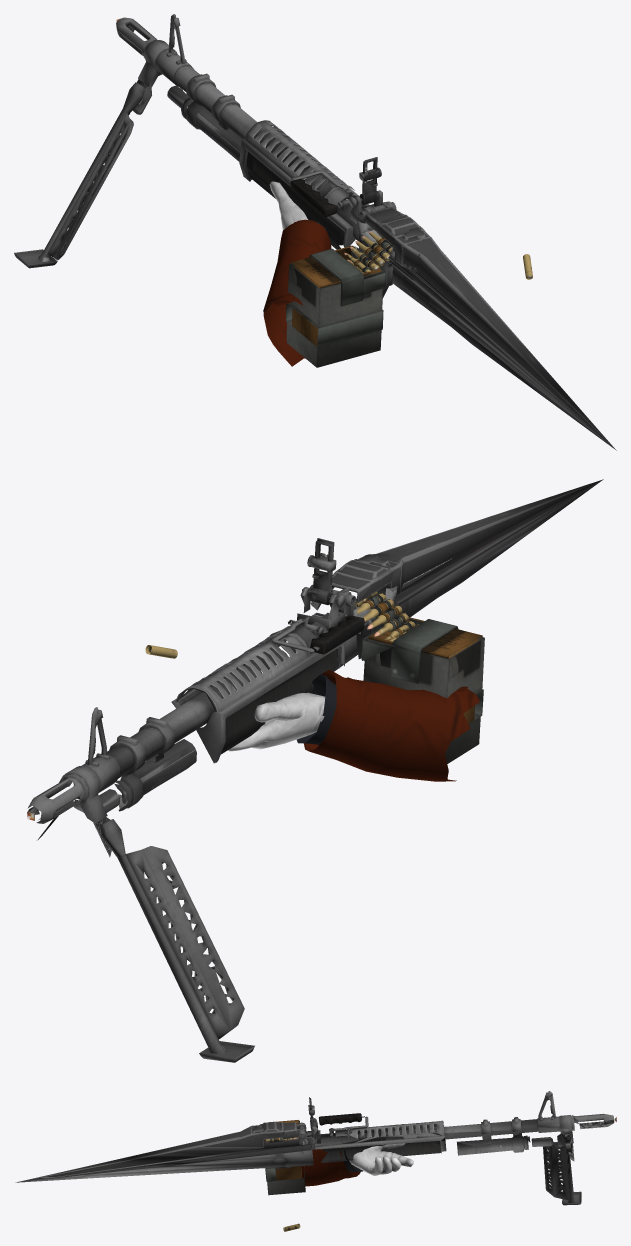
Rendered from frame_22.obj.
3 views of the same model, one above another, from view 1: azimuth 30°, elevation 25°; view 2: azimuth 150°, elevation 25°; view 3: azimuth 270°, elevation 25° (orthographic). The views are drawn at different scales.
Visible parts, largest first — view 1: Mesh.005, PlayerModelMerged.001_PlayerModelMerged, Mesh.001; view 2: Mesh.005, PlayerModelMerged.001_PlayerModelMerged, Mesh.001; view 3: Mesh.005, PlayerModelMerged.001_PlayerModelMerged.
Part boxes in pixels (x1,y1,x2,y2): Mesh.005: [14, 14, 616, 450]; PlayerModelMerged.001_PlayerModelMerged: [263, 181, 331, 366]; Mesh.001: [344, 231, 392, 272]; Mesh.005: [27, 479, 603, 1062]; PlayerModelMerged.001_PlayerModelMerged: [228, 669, 479, 781]; Mesh.001: [355, 593, 415, 639]; Mesh.005: [15, 1091, 614, 1205]; PlayerModelMerged.001_PlayerModelMerged: [301, 1143, 413, 1186].
Size of the model in its own units: 0.8109 by 0.6131 by 2.27.
